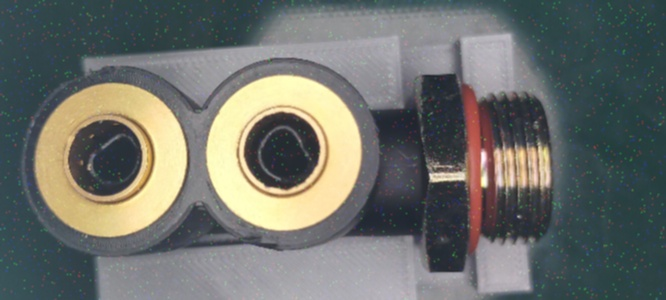bump: (233, 230, 289, 248), (72, 70, 117, 83)
joint line: (382, 164, 424, 171)
off-centered: (252, 123, 317, 185), (81, 133, 144, 190)
white mark: (394, 147, 413, 161)
